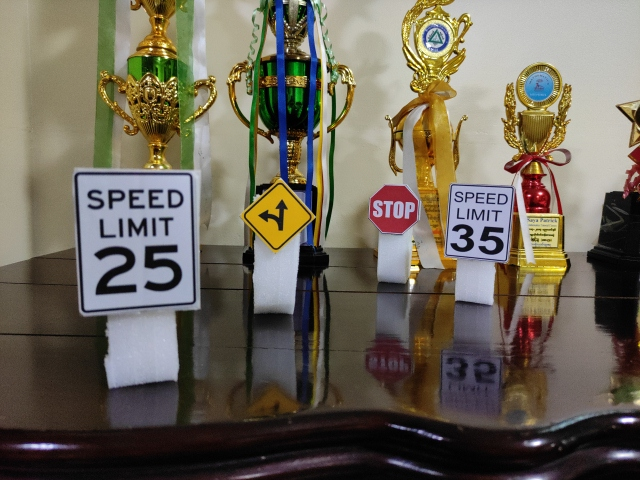Speed Limit 25: (73, 169, 200, 309)
Speed Limit 35: (446, 183, 513, 261)
Stop Sign: (368, 184, 420, 234)
Straight Or Left Sign: (243, 181, 315, 249)
